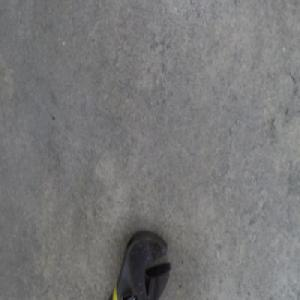AdjustableWrench: (108, 231, 172, 298)
